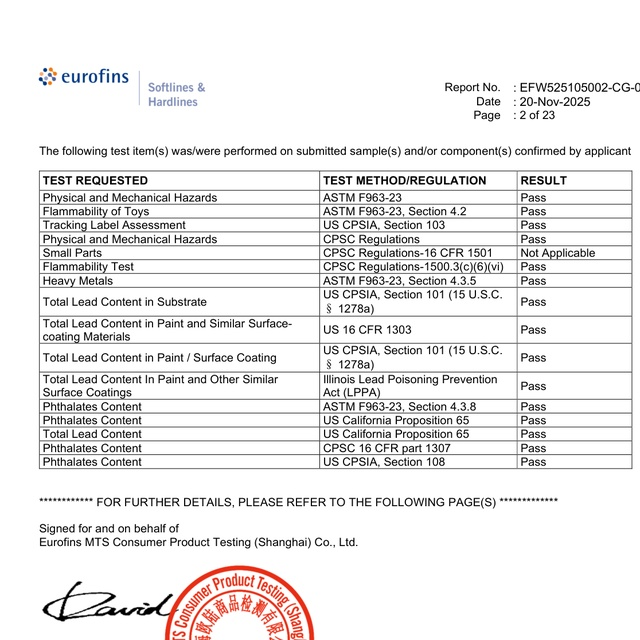eurofins: (35, 65, 133, 90)
